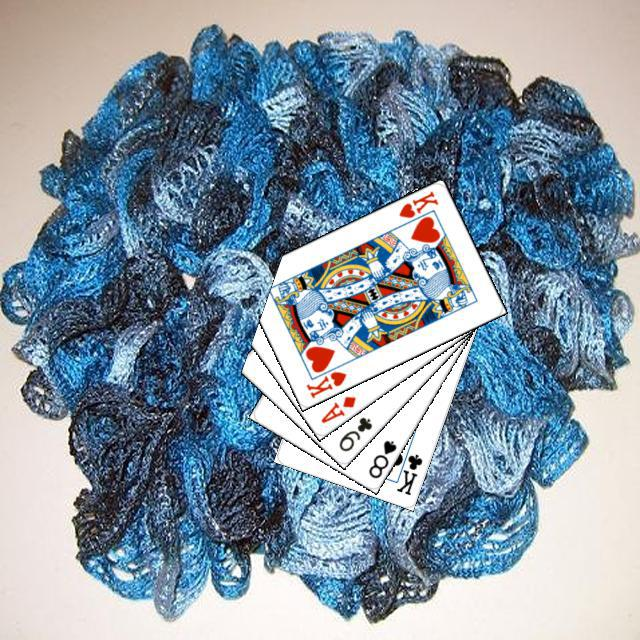8s: (363, 435, 398, 480)
9c: (334, 412, 374, 453)
Ad: (316, 391, 357, 425)
Kc: (390, 442, 424, 497)
Kh: (301, 357, 348, 400), (394, 186, 440, 220)
